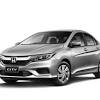Honda: (1, 31, 100, 85)
